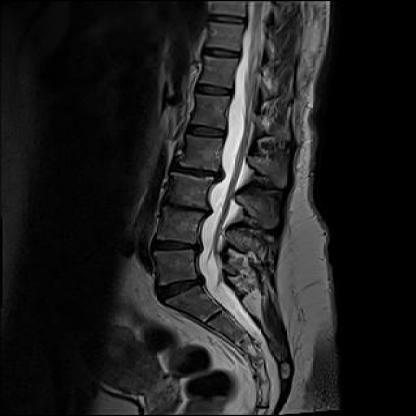Degenerative Disc Diseaserotation: (157, 274, 200, 303), (173, 163, 223, 180), (162, 200, 209, 218)
Disc Herniationrotation: (173, 163, 222, 180), (163, 201, 210, 218), (155, 238, 199, 252)
